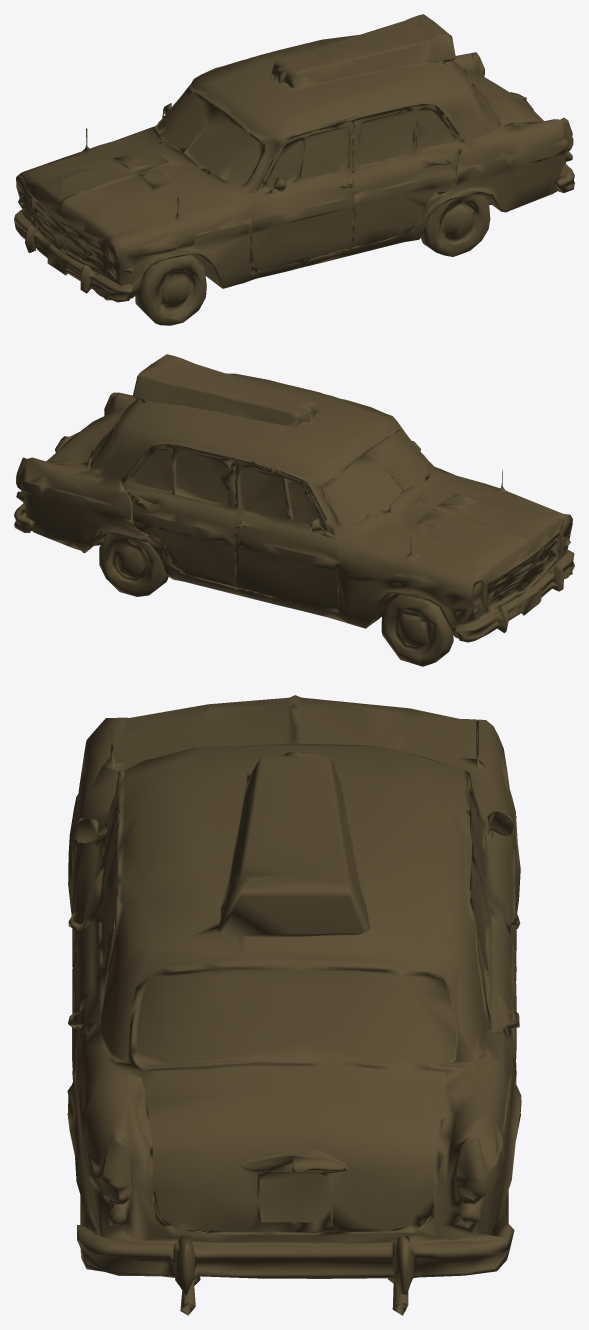
The model's file is car_taxi_light_q0.glb.
3 renders of one model, top to bottom at view 1: azimuth 30°, elevation 25°; view 2: azimuth 150°, elevation 25°; view 3: azimuth 270°, elevation 25°, orthographic. The views are drawn at different scales.
Size of the model in its own units: 4.01 by 1.5 by 1.62.
Materials: 1 (1 with a texture image).
